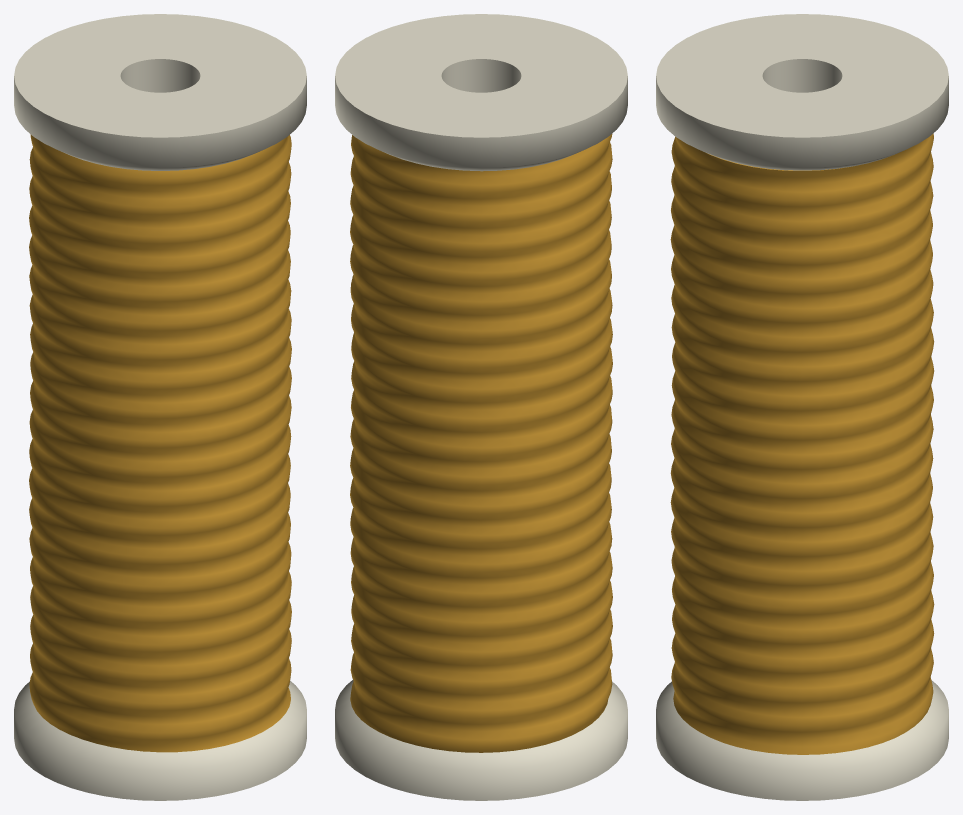
3 views of the same model, side by side, from view 1: azimuth 30°, elevation 25°; view 2: azimuth 150°, elevation 25°; view 3: azimuth 270°, elevation 25° (orthographic).
Parts seen in each view (by area): view 1: Wound thread with helical surface grooves, Through-bore core with two end flanges; view 2: Wound thread with helical surface grooves, Through-bore core with two end flanges; view 3: Wound thread with helical surface grooves, Through-bore core with two end flanges.
Boxes of the visible parts, <box> form: Wound thread with helical surface grooves: <box>29,134,291,752</box>; Through-bore core with two end flanges: <box>14,14,306,800</box>; Wound thread with helical surface grooves: <box>350,134,612,752</box>; Through-bore core with two end flanges: <box>335,14,627,800</box>; Wound thread with helical surface grooves: <box>670,133,934,754</box>; Through-bore core with two end flanges: <box>656,14,948,800</box>.
Size of the model in its own units: 0.022 by 0.055 by 0.022.
